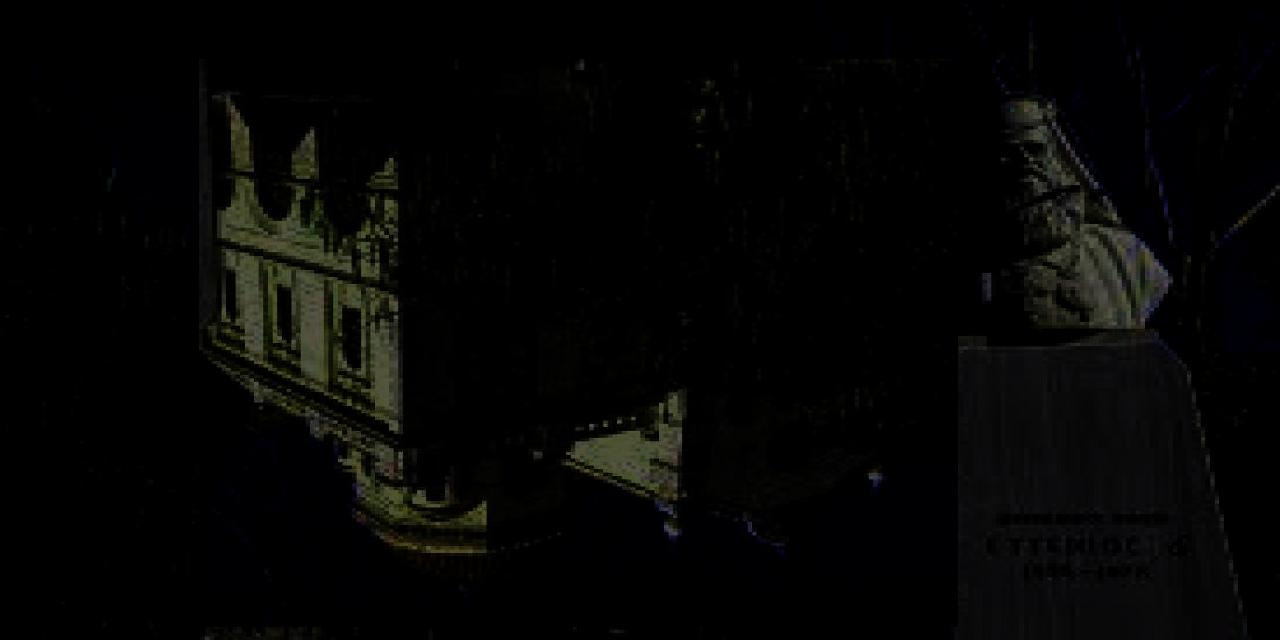Agios Minas: (200, 60, 959, 628)
